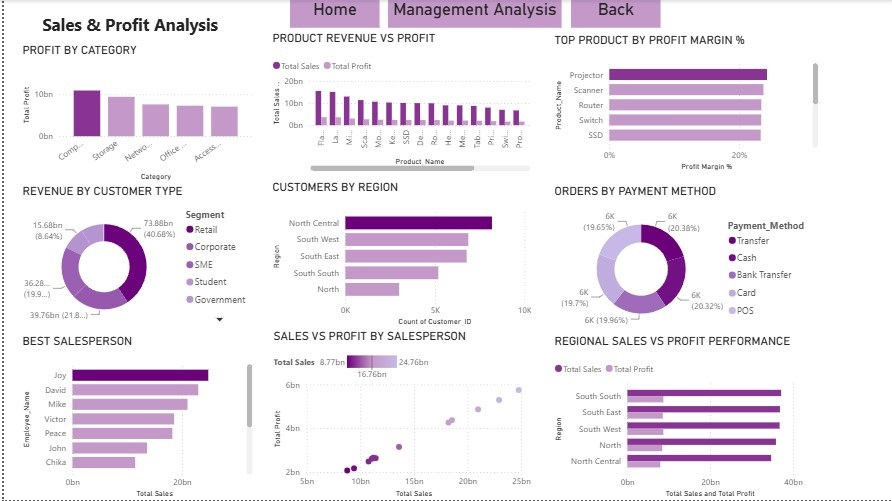

Layout of this report page (visuals, bound fields, positions):
{"tool":"powerbi","page":{"name":"Sales & Profit Analysis","canvas":[1280,720],"ordinal":1},"visuals":[{"type":"textbox","box":[0,13.4,362.8,65.5],"z":0},{"type":"clusteredColumnChart","title":" PROFIT BY CATEGORY","fields":{"Category":["Dim_Products.Category"],"Y":["Dim_Customers.Total Profit"]},"box":[21.8,62.2,341,203.3],"z":1000},{"type":"clusteredBarChart","title":"TOP PRODUCT BY PROFIT MARGIN %","fields":{"Category":["Dim_Products.Product_Name"],"Y":["Dim_Customers.Profit Margin %"]},"box":[787.8,47,389.7,203.3],"z":2000},{"type":"clusteredColumnChart","title":"PRODUCT REVENUE VS PROFIT","fields":{"Y":["Dim_Customers.Total Sales","Dim_Customers.Total Profit"],"Category":["Dim_Products.Product_Name"]},"box":[381.3,45.4,381.3,206.6],"z":3000},{"type":"clusteredBarChart","title":"CUSTOMERS BY REGION","fields":{"Category":["Dim_Employees.Region"],"Y":["CountNonNull(Fact_Sales.Customer_ID)"]},"box":[381.3,258.7,383,215],"z":4000},{"type":"donutChart","title":"REVENUE BY CUSTOMER TYPE","fields":{"Y":["Dim_Customers.Total Sales"],"Category":["Dim_Customers.Segment"]},"box":[21.8,265.4,341,208.3],"z":5000},{"type":"donutChart","title":"ORDERS BY PAYMENT METHOD","fields":{"Category":["Fact_Sales.Payment_Method"],"Y":["Dim_Customers.Total Orders"]},"box":[787.8,265.4,379.6,215],"z":6000},{"type":"scatterChart","title":"SALES VS PROFIT BY SALESPERSON","fields":{"X":["Dim_Customers.Total Sales"],"Y":["Dim_Customers.Total Profit"],"Category":["Dim_Employees.Employee_Name"]},"box":[383,473.7,381.3,246.9],"z":7000},{"type":"clusteredBarChart","title":"BEST SALESPERSON","fields":{"Y":["Dim_Customers.Total Sales"],"Category":["Dim_Employees.Employee_Name"]},"box":[21.8,480.4,341,240.2],"z":8000},{"type":"clusteredBarChart","title":"REGIONAL SALES VS PROFIT PERFORMANCE","fields":{"Y":["Dim_Customers.Total Sales","Dim_Customers.Total Profit"],"Category":["Dim_Customers.Region"]},"box":[787.8,480.4,367.9,240.2],"z":9000},{"type":"actionButton","title":"Home","box":[411.5,0,129.3,40.3],"z":10000},{"type":"actionButton","title":"Management Analysis","box":[552.7,0,250.3,40.3],"z":11000},{"type":"actionButton","title":"Back","box":[816.4,0,129.3,40.3],"z":12000}]}

Visuals, with their boxes in screenshot pixels (x1, y1, x2, y2), scaled from the page's 1280x720 canvas onto the 892x501 screenshot:
textbox: BBox(0, 9, 253, 55)
" PROFIT BY CATEGORY" clusteredColumnChart: BBox(15, 43, 253, 185)
"TOP PRODUCT BY PROFIT MARGIN %" clusteredBarChart: BBox(549, 33, 821, 174)
"PRODUCT REVENUE VS PROFIT" clusteredColumnChart: BBox(266, 32, 531, 175)
"CUSTOMERS BY REGION" clusteredBarChart: BBox(266, 180, 533, 330)
"REVENUE BY CUSTOMER TYPE" donutChart: BBox(15, 185, 253, 330)
"ORDERS BY PAYMENT METHOD" donutChart: BBox(549, 185, 814, 334)
"SALES VS PROFIT BY SALESPERSON" scatterChart: BBox(267, 330, 533, 500)
"BEST SALESPERSON" clusteredBarChart: BBox(15, 334, 253, 500)
"REGIONAL SALES VS PROFIT PERFORMANCE" clusteredBarChart: BBox(549, 334, 805, 500)
"Home" actionButton: BBox(287, 0, 377, 28)
"Management Analysis" actionButton: BBox(385, 0, 560, 28)
"Back" actionButton: BBox(569, 0, 659, 28)
